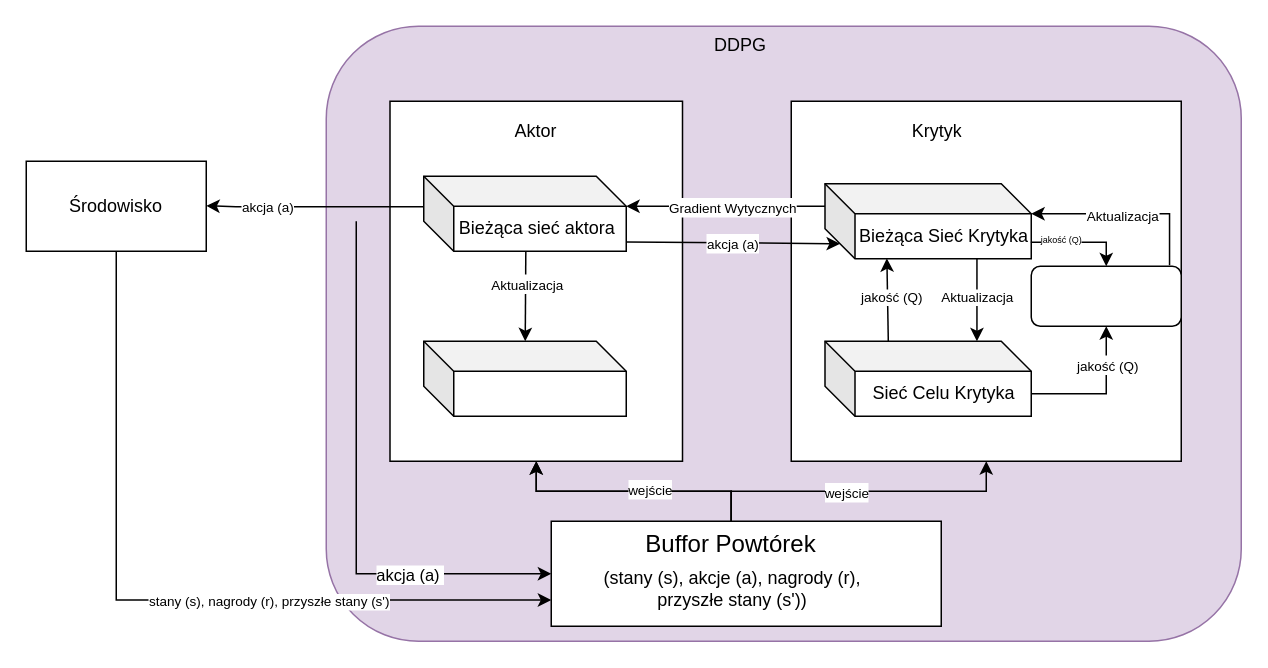
The diagram is 1268 pixels wide and 668 high, and some of its shapes have lost their labels. The shapes that lost their labels are listed below. From the top down, each one's centre as x and y in pixels, then its label:
At (1105,295): "Funkcja straty".
At (524,378): "Sieć Celu Aktora".
